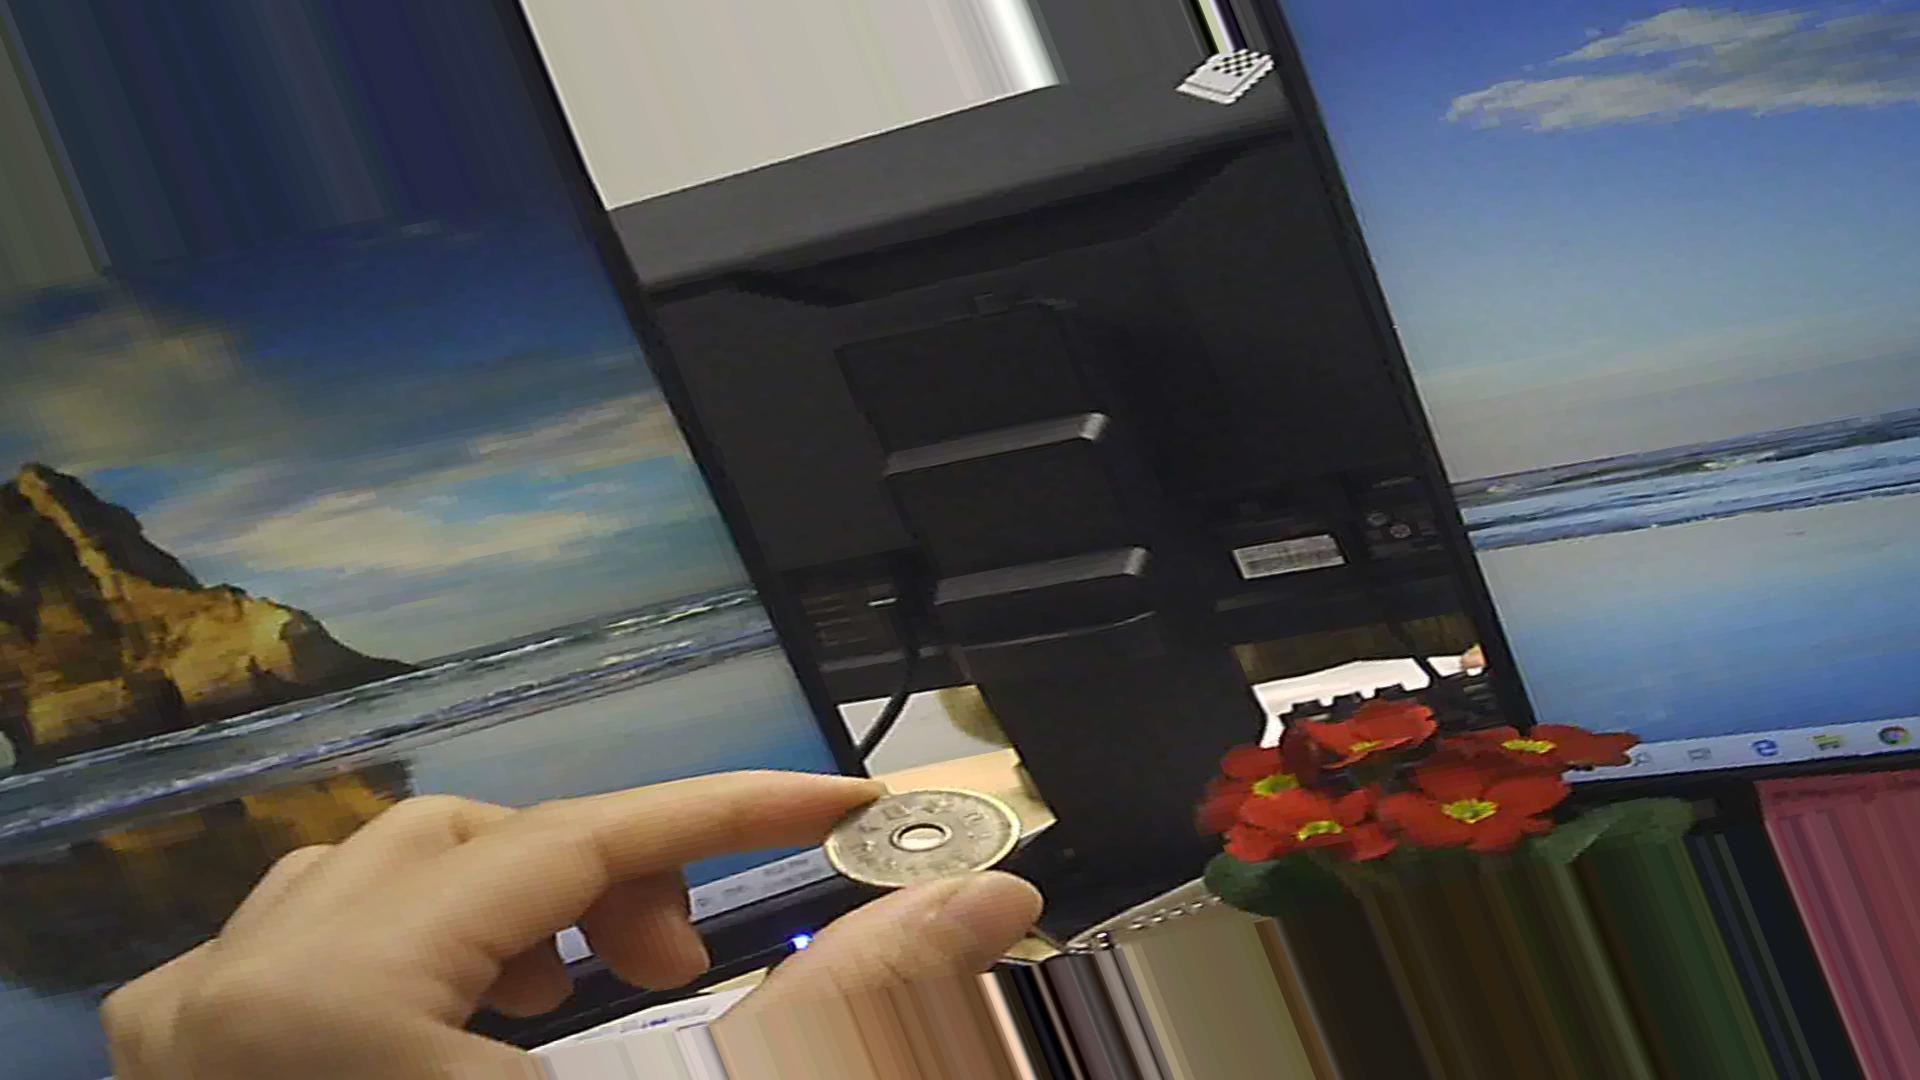5 Yen: (811, 779, 1029, 889)
